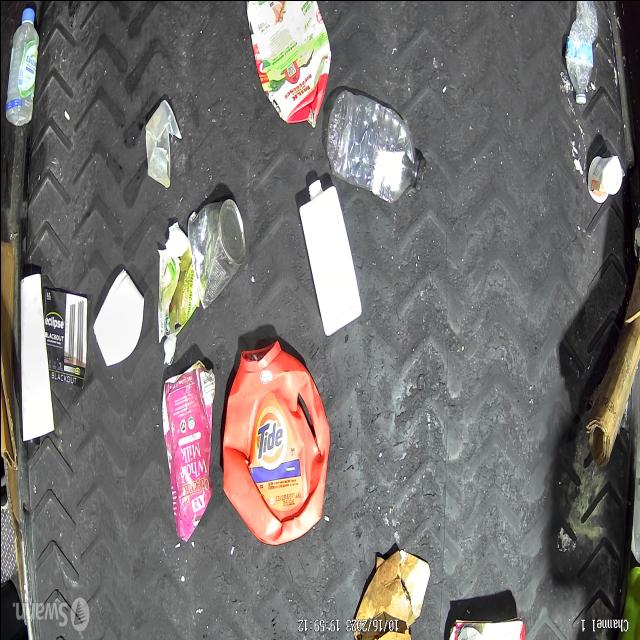can: (184, 185, 246, 315)
non_white_jug: (214, 324, 332, 544)
plastic_bottle: (318, 85, 432, 224), (0, 0, 44, 141), (558, 0, 606, 113)
